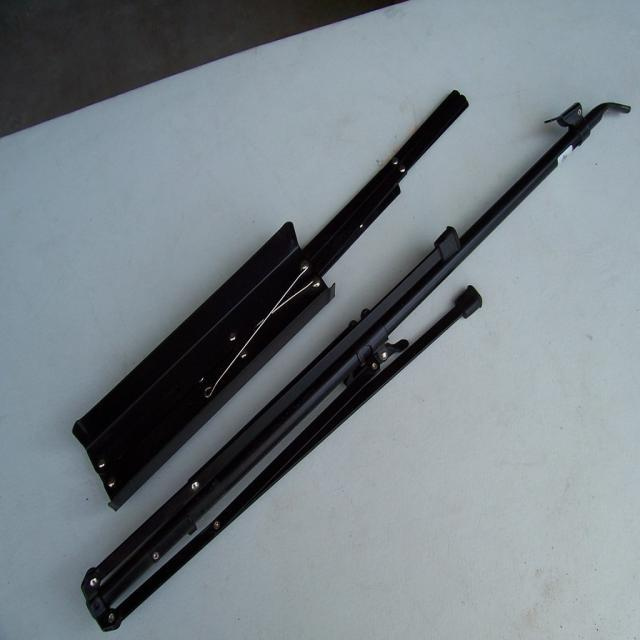weapon: (80, 102, 632, 632)
